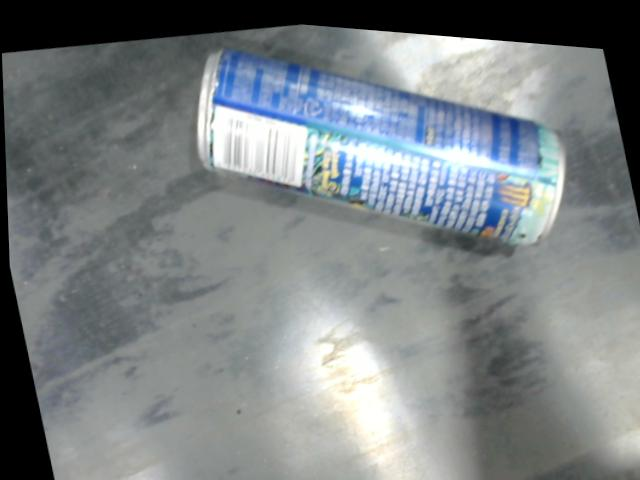can: (193, 41, 567, 240)
